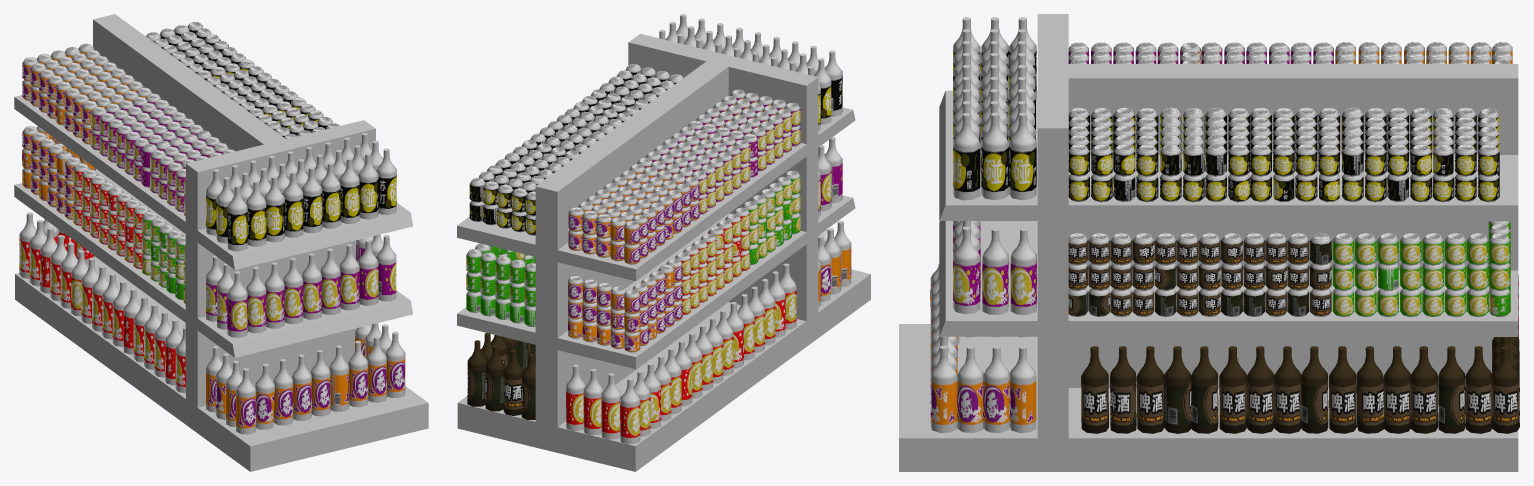
The model's file is obj_convenienceStoreRack.fbx.
The picture shows the model from 3 angles, left to right: view 1: azimuth 30°, elevation 25°; view 2: azimuth 150°, elevation 25°; view 3: azimuth 270°, elevation 25°; orthographic projection. The views are drawn at different scales.
Parts seen in each view (by area): view 1: polySurface195; view 2: polySurface195; view 3: polySurface195.
Part boxes in pixels (box(x1,y1,x2,y2)): polySurface195: box(14, 14, 428, 471); polySurface195: box(457, 14, 870, 471); polySurface195: box(899, 14, 1519, 471).
Bounding box in the file's own units: 1.54 × 2.17 × 3.52.
